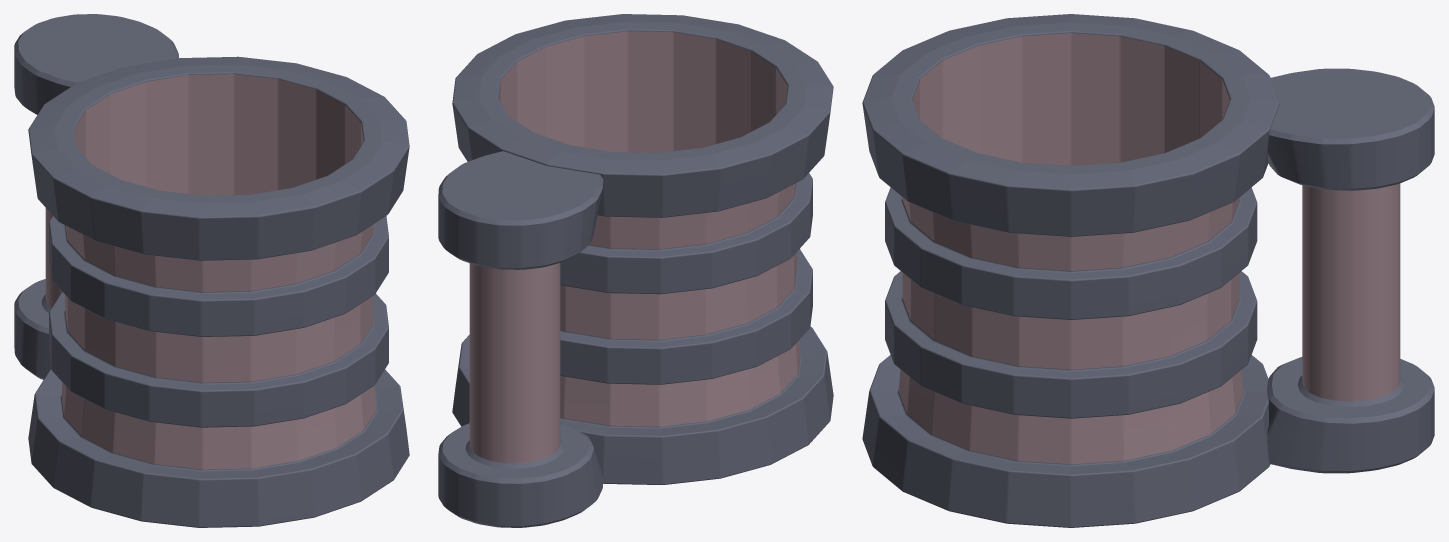
The model's file is mug.fbx.
The picture shows the model from 3 angles, left to right: view 1: azimuth 30°, elevation 25°; view 2: azimuth 150°, elevation 25°; view 3: azimuth 270°, elevation 25°; orthographic projection. The views are drawn at different scales.
Visible parts, largest first — view 1: mug; view 2: mug; view 3: mug.
Part boxes in pixels (<box>): mug: <box>14,14,409,527</box>; mug: <box>438,14,833,527</box>; mug: <box>862,14,1434,527</box>.
Bounding box in the file's own units: 2.48 × 2.26 × 3.39.
